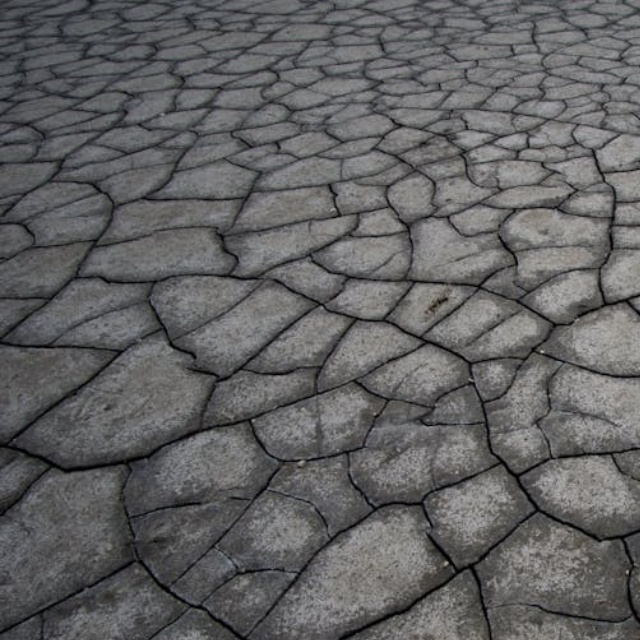网状裂隙: (0, 103, 640, 640), (0, 51, 640, 570), (155, 0, 640, 564), (0, 56, 581, 498)
